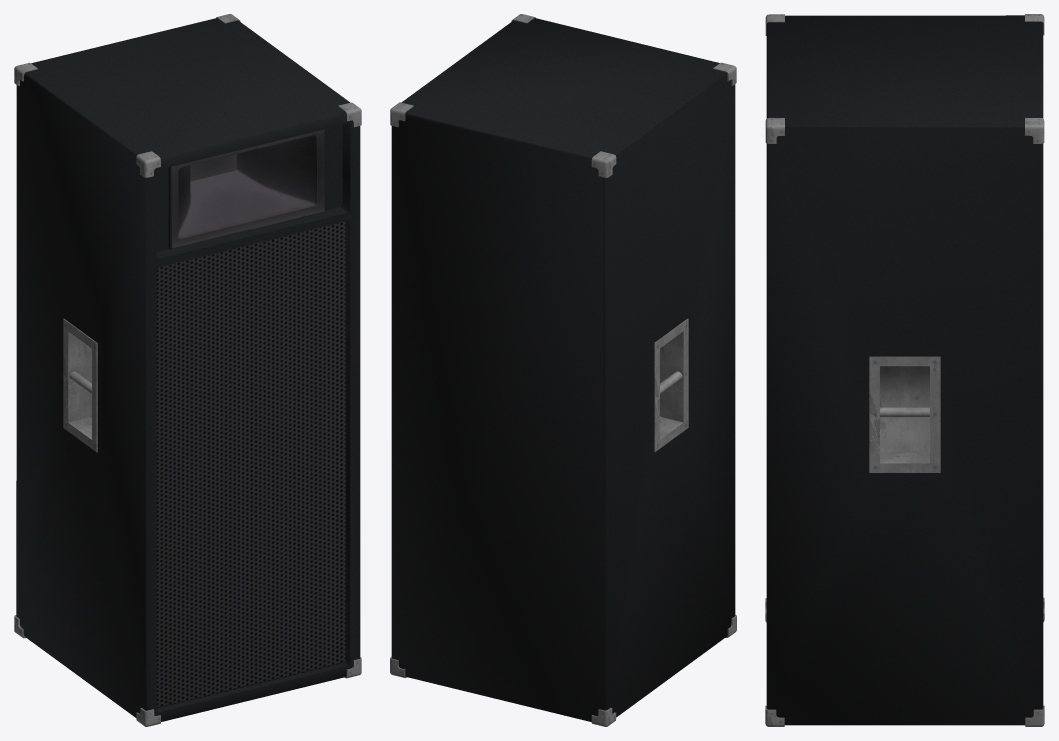
The model's file is Speakers04.FBX.
3 renders of one model, left to right at view 1: azimuth 30°, elevation 25°; view 2: azimuth 150°, elevation 25°; view 3: azimuth 270°, elevation 25°, orthographic. The views are drawn at different scales.
Parts seen in each view (by area): view 1: Speakers04; view 2: Speakers04; view 3: Speakers04.
Boxes of the visible parts, x1,y1,x2,y2 form: Speakers04: [14, 14, 361, 726]; Speakers04: [390, 14, 736, 726]; Speakers04: [765, 14, 1044, 726].
Size of the model in its own units: 61.07 by 153 by 63.73.
